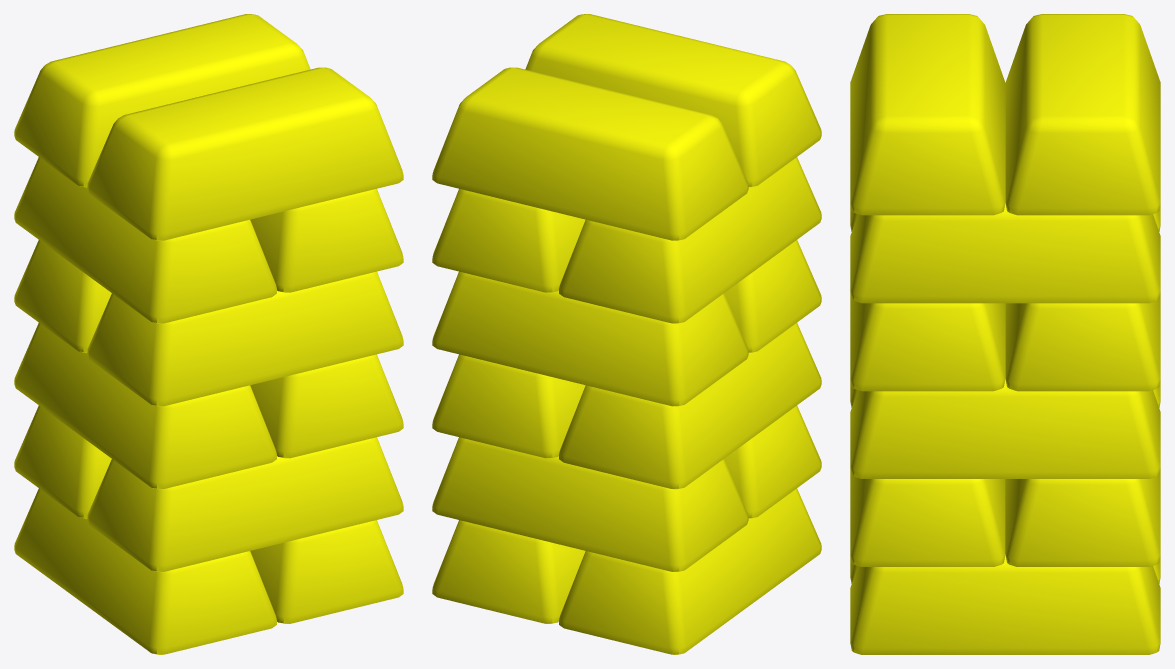
File: kaykit-copper-bars-stack-medium.glb
3 views of the same model, side by side, from view 1: azimuth 30°, elevation 25°; view 2: azimuth 150°, elevation 25°; view 3: azimuth 270°, elevation 25° (orthographic). The views are drawn at different scales.
Visible parts, largest first — view 1: Copper_Bars_Stack_Medium; view 2: Copper_Bars_Stack_Medium; view 3: Copper_Bars_Stack_Medium.
Boxes of the visible parts, bbox=[...] form: Copper_Bars_Stack_Medium: bbox=[14, 14, 403, 654]; Copper_Bars_Stack_Medium: bbox=[432, 14, 821, 654]; Copper_Bars_Stack_Medium: bbox=[850, 14, 1160, 654].
Size of the model in its own units: 0.8001 by 1.5 by 0.8001.
